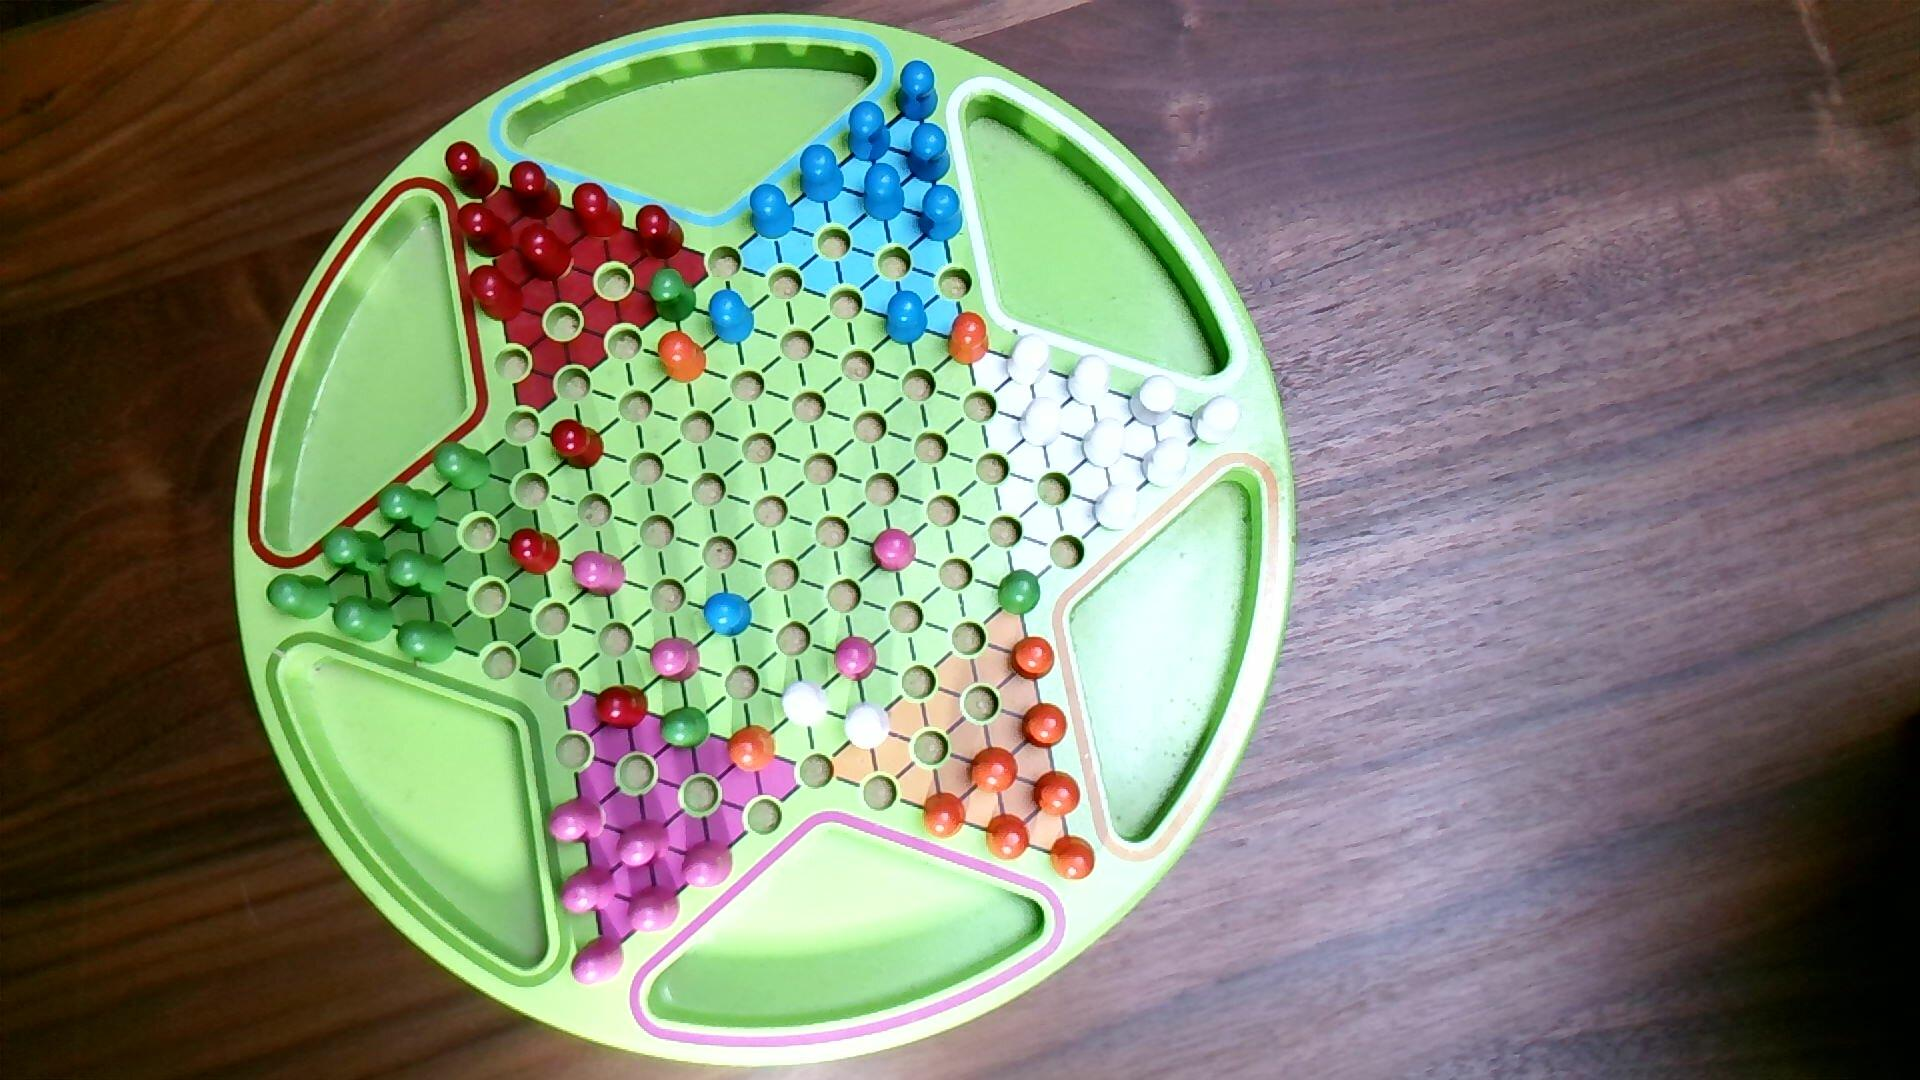B: (906, 119, 953, 185), (798, 141, 847, 204), (918, 182, 967, 245), (862, 158, 907, 227), (894, 57, 940, 123), (847, 99, 893, 164), (708, 287, 757, 348), (749, 185, 798, 243), (884, 287, 930, 348), (702, 589, 756, 641)
G: (320, 522, 389, 579), (430, 439, 496, 497), (377, 480, 442, 538), (645, 262, 700, 327), (385, 549, 451, 603), (331, 592, 398, 645), (266, 570, 335, 621), (396, 617, 460, 669), (657, 704, 713, 756), (993, 568, 1044, 615)
O: (967, 742, 1022, 798), (655, 328, 709, 385), (1030, 769, 1085, 822), (727, 723, 779, 775), (1019, 700, 1071, 753), (945, 310, 992, 368), (1007, 633, 1059, 684), (985, 810, 1033, 864), (1048, 833, 1098, 884), (920, 790, 969, 841)
R: (514, 219, 578, 284), (465, 262, 527, 324), (443, 138, 501, 202), (506, 158, 564, 222), (458, 199, 516, 258), (571, 179, 626, 241), (636, 200, 687, 262), (549, 419, 607, 472), (506, 525, 564, 578), (593, 683, 651, 733)
R2: (546, 791, 607, 849), (615, 818, 674, 874), (559, 864, 618, 919), (570, 932, 626, 989), (626, 882, 684, 935), (678, 837, 736, 890), (571, 549, 629, 601), (647, 634, 702, 687), (870, 524, 919, 578), (833, 633, 880, 688)
W: (1189, 392, 1247, 452), (1139, 431, 1196, 493), (1125, 371, 1182, 431), (1004, 328, 1056, 392), (1015, 393, 1069, 451), (1081, 413, 1133, 473), (841, 698, 895, 754), (1093, 477, 1145, 534), (1065, 352, 1116, 410), (779, 678, 832, 732)
